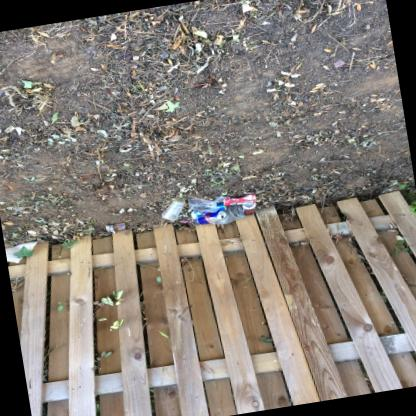Metal: (219, 192, 255, 205), (194, 209, 225, 224), (240, 201, 254, 214), (190, 209, 209, 218), (212, 201, 225, 211), (105, 225, 112, 231), (219, 199, 223, 201)
Paper: (104, 220, 125, 232)
Plastic: (187, 194, 223, 211), (210, 204, 237, 224), (160, 197, 184, 219), (230, 203, 243, 217)
Waste: (4, 239, 43, 262), (332, 59, 344, 66), (179, 219, 194, 221)
